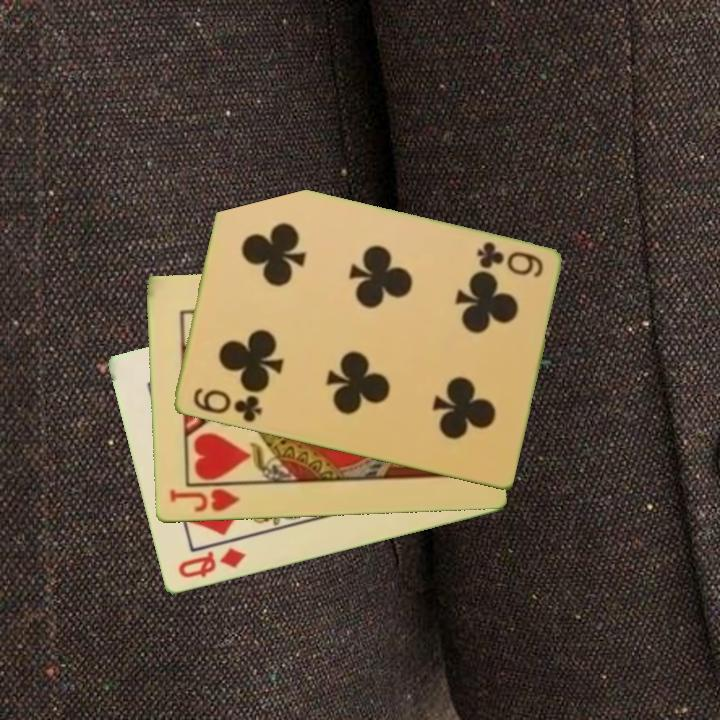6c: (189, 384, 265, 426), (472, 238, 546, 281)
Jh: (166, 481, 248, 515)
Qd: (174, 545, 249, 582)
